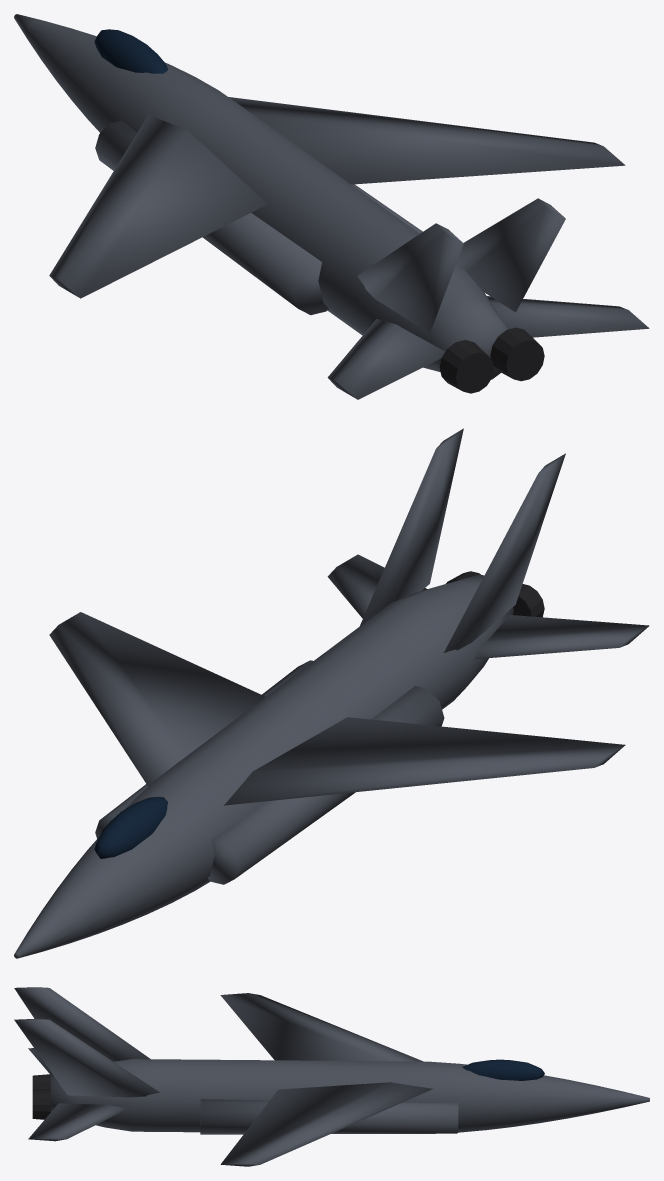
3 renders of one model, top to bottom at view 1: azimuth 30°, elevation 25°; view 2: azimuth 150°, elevation 25°; view 3: azimuth 270°, elevation 25°, orthographic. The views are drawn at different scales.
Visible parts, largest first — view 1: Body, Detail, Canopy; view 2: Body, Canopy, Detail; view 3: Body, Canopy, Detail.
Boxes of the visible parts, x1,y1,x2,y2 form: Body: [14, 14, 649, 399]; Detail: [439, 327, 544, 393]; Canopy: [94, 29, 167, 73]; Body: [14, 428, 649, 958]; Canopy: [94, 796, 168, 858]; Detail: [446, 571, 544, 617]; Body: [14, 987, 649, 1166]; Canopy: [462, 1059, 544, 1080]; Detail: [32, 1074, 50, 1119].
Size of the model in its own units: 13 by 4.53 by 20.59.
